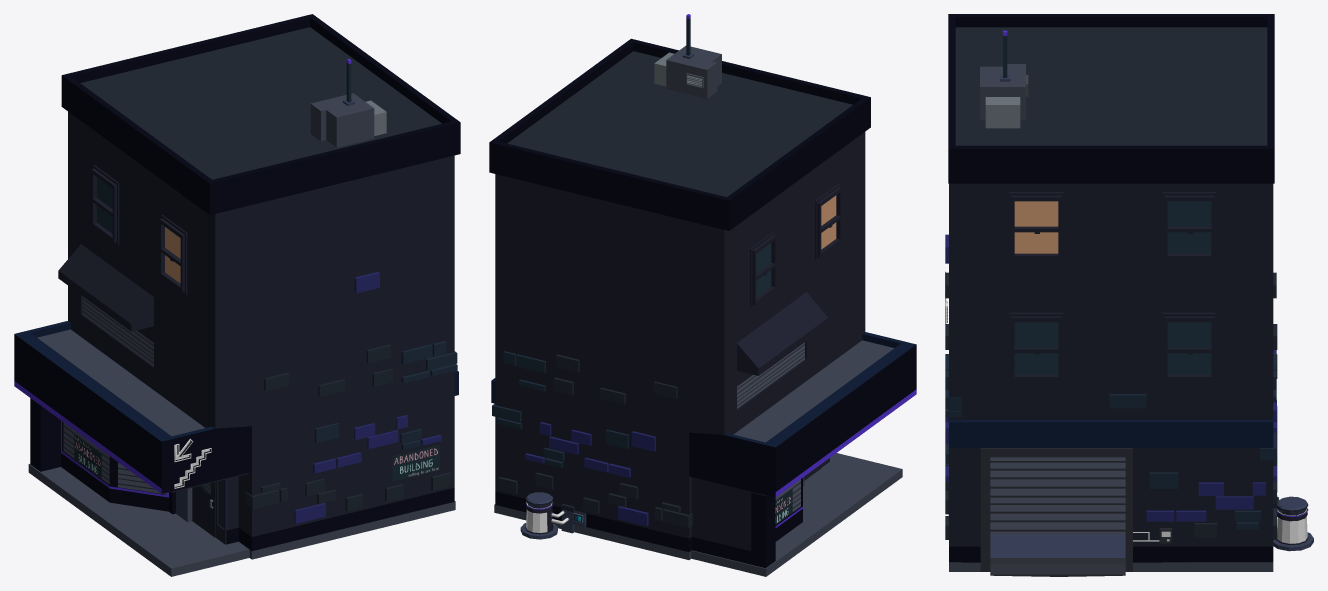
Rendered from AbandonedBuilding.fbx.
The picture shows the model from 3 angles, left to right: view 1: azimuth 30°, elevation 25°; view 2: azimuth 150°, elevation 25°; view 3: azimuth 270°, elevation 25°; orthographic projection. The views are drawn at different scales.
Visible parts, largest first — view 1: Cube.614, Plane.004, Plane.003, Plane.002; view 2: Cube.614, Cylinder.033; view 3: Cube.614, Cube.619, Cylinder.033.
Part boxes in pixels (bbox=[...]): Cube.614: bbox=[14, 14, 460, 576]; Plane.004: bbox=[392, 445, 439, 481]; Plane.003: bbox=[192, 482, 215, 537]; Plane.002: bbox=[74, 434, 101, 478]; Cube.614: bbox=[489, 14, 916, 576]; Cylinder.033: bbox=[520, 492, 586, 539]; Cube.614: bbox=[945, 14, 1277, 576]; Cube.619: bbox=[990, 457, 1125, 534]; Cylinder.033: bbox=[1273, 495, 1313, 551].
Bounding box in the file's own units: 700 × 998 × 671.
